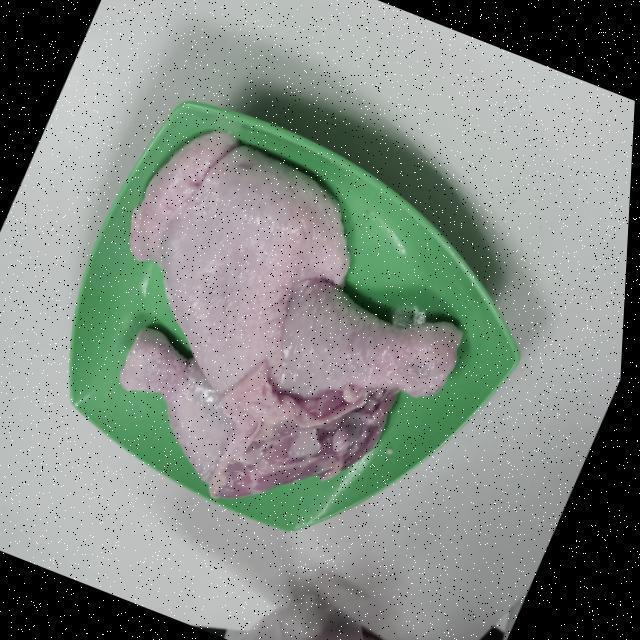quater: (158, 144, 460, 390), (119, 333, 388, 494)
